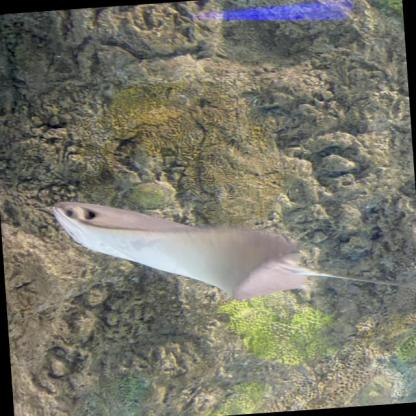stingray: (48, 183, 311, 314)
